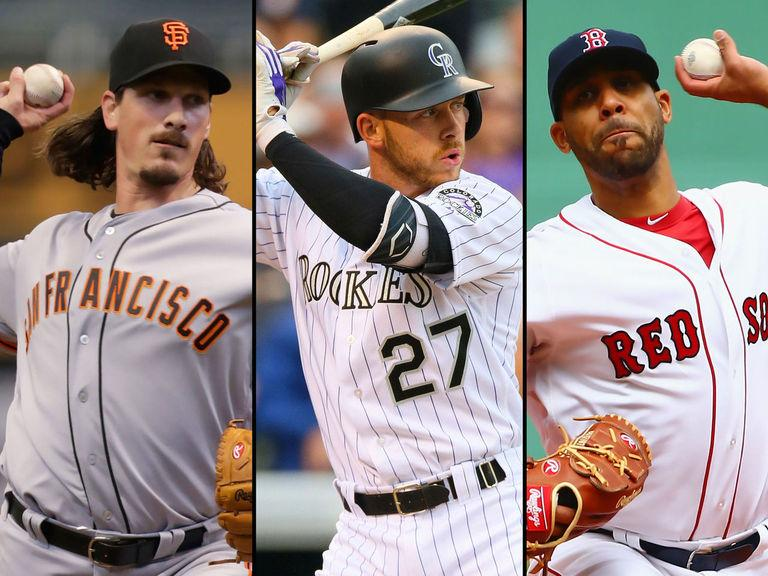baseball: (18, 62, 66, 109), (679, 38, 727, 81)
